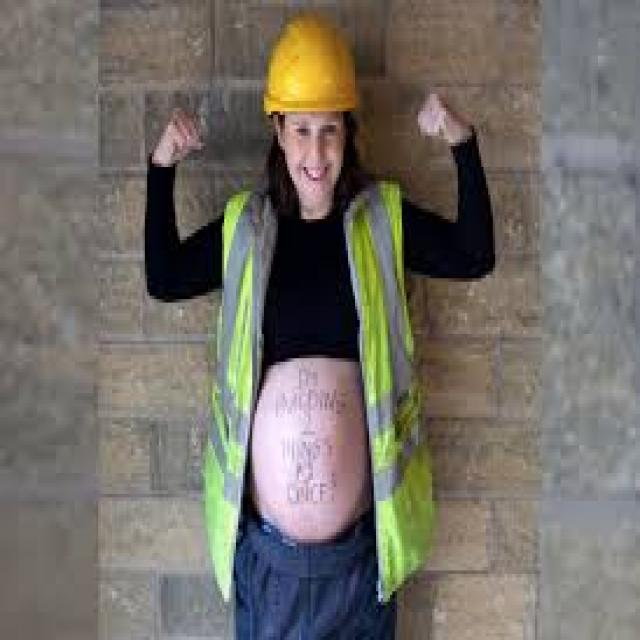Reflective-Jacket: (182, 167, 446, 602)
Safety-Helmet: (245, 3, 376, 142)
